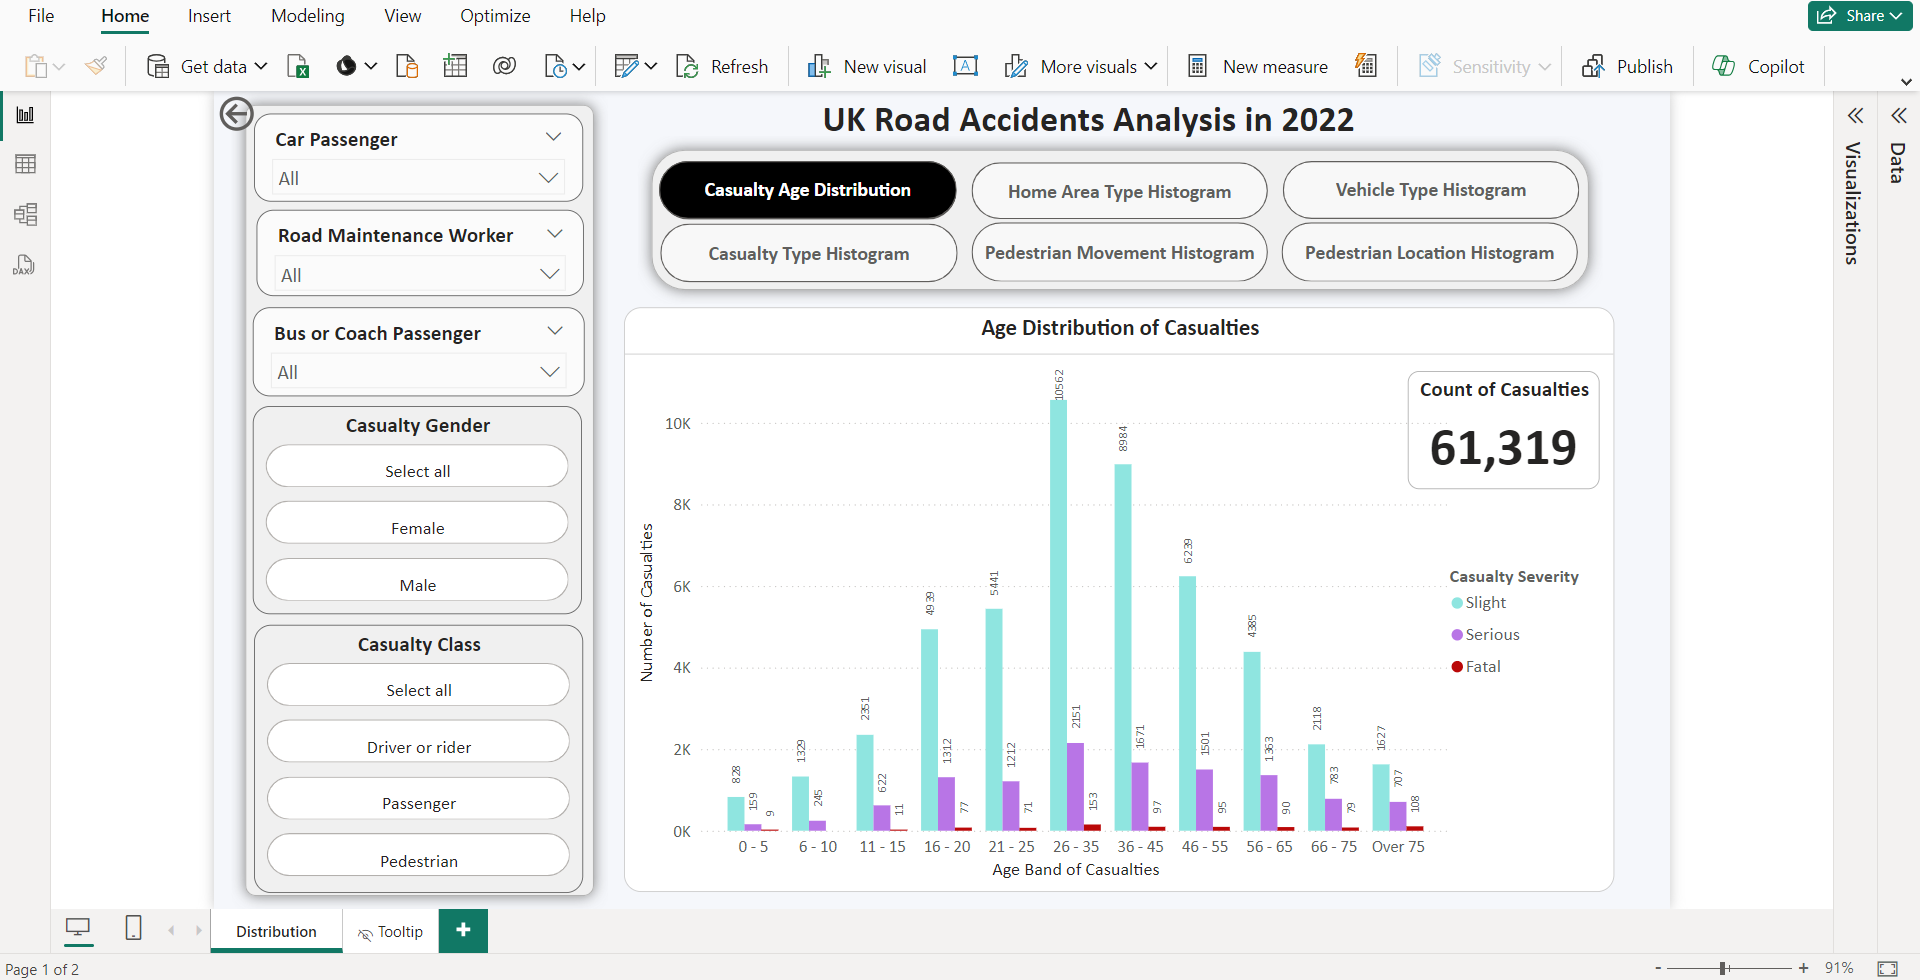

The dashboard page shown, as its layout file describes it:
{"tool":"powerbi","page":{"name":"Distribution","canvas":[1280,720],"ordinal":0},"visuals":[{"type":"shape","box":[372.6,39.3,848.8,147.6],"z":0},{"type":"shape","box":[15.5,0,331,720.2],"z":1000},{"type":"clusteredColumnChart","title":"Age Distribution of Casualties","fields":{"Y":["CountNonNull(clean_data.age_band_of_casualty)"],"Category":["CasualtyAge.age_band_of_casualty"],"Series":["Severity.casualty_severity"]},"box":[360.7,190.5,871.4,514.3],"z":7000},{"type":"advancedSlicerVisual","title":"Casualty Class","fields":{"Values":["CasualtyClass.casualty_class"]},"box":[35.7,469.1,289.3,235.7],"z":8000},{"type":"advancedSlicerVisual","title":"Casualty Gender","fields":{"Values":["CasualtyGender.sex_of_casualty"]},"box":[34.5,277.4,289.3,183.3],"z":9000},{"type":"slicer","fields":{"Values":["BusCoachPassenger.bus_or_coach_passenger"]},"box":[34.5,190.5,291.7,78.6],"z":10000},{"type":"slicer","fields":{"Values":["CarPassenger.car_passenger"]},"box":[35.7,20.2,289.3,77.4],"z":11000},{"type":"slicer","fields":{"Values":["Worker.pedestrian_road_maintenance_worker"]},"box":[36.9,104.8,288.1,76.2],"z":12000},{"type":"textbox","box":[529.8,0,492.9,65.5],"z":13000},{"type":"actionButton","box":[0,0,100,40],"z":14000},{"type":"actionButton","box":[666.7,115.5,260.7,52.4],"z":15000},{"type":"actionButton","box":[392.5,62.7,260.6,50.6],"z":16000},{"type":"actionButton","box":[939.3,115.5,260.7,52.4],"z":17000},{"type":"actionButton","box":[940.3,61.8,260.9,51],"z":18000},{"type":"actionButton","box":[392.5,116.6,261.7,51.7],"z":19000},{"type":"actionButton","box":[666.7,63.1,260.7,50],"z":20000},{"type":"actionButton","box":[391.8,62.1,262,50.8],"z":21000},{"type":"card","title":"Count of Casualties","fields":{"Values":["CountNonNull(clean_data.casualty_id)"]},"box":[1050,245.9,168.8,103.7],"z":27000}]}

Visuals, with their boxes on the page's 1280x720 design canvas (x1, y1, x2, y2). These are canvas units, not pixel positions in the 1920x980 screenshot, which may show the page scaled, cropped or inside an application window:
shape: <box>373,39,1221,187</box>
shape: <box>16,0,346,720</box>
"Age Distribution of Casualties" clusteredColumnChart: <box>361,190,1232,705</box>
"Casualty Class" advancedSlicerVisual: <box>36,469,325,705</box>
"Casualty Gender" advancedSlicerVisual: <box>34,277,324,461</box>
slicer - BusCoachPassenger.bus_or_coach_passenger: <box>34,190,326,269</box>
slicer - CarPassenger.car_passenger: <box>36,20,325,98</box>
slicer - Worker.pedestrian_road_maintenance_worker: <box>37,105,325,181</box>
textbox: <box>530,0,1023,66</box>
actionButton: <box>0,0,100,40</box>
actionButton: <box>667,116,927,168</box>
actionButton: <box>392,63,653,113</box>
actionButton: <box>939,116,1200,168</box>
actionButton: <box>940,62,1201,113</box>
actionButton: <box>392,117,654,168</box>
actionButton: <box>667,63,927,113</box>
actionButton: <box>392,62,654,113</box>
"Count of Casualties" card: <box>1050,246,1219,350</box>
